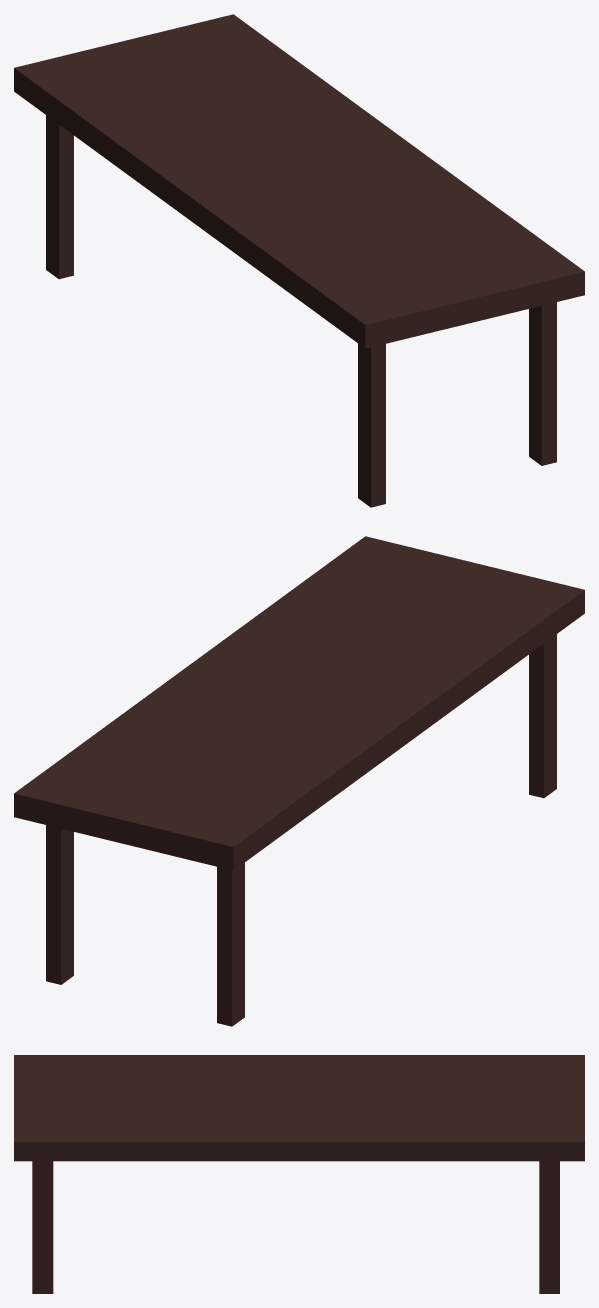
The model's file is desk.glb.
3 views of the same model, one above another, from view 1: azimuth 30°, elevation 25°; view 2: azimuth 150°, elevation 25°; view 3: azimuth 270°, elevation 25° (orthographic). The views are drawn at different scales.
Visible parts, largest first — view 1: desk; view 2: desk; view 3: desk.
Part boxes in pixels (bbox=[...]): desk: bbox=[14, 14, 584, 507]; desk: bbox=[14, 536, 584, 1026]; desk: bbox=[14, 1055, 584, 1293].
Size of the model in its own units: 1.61 by 1.37 by 4.47.
